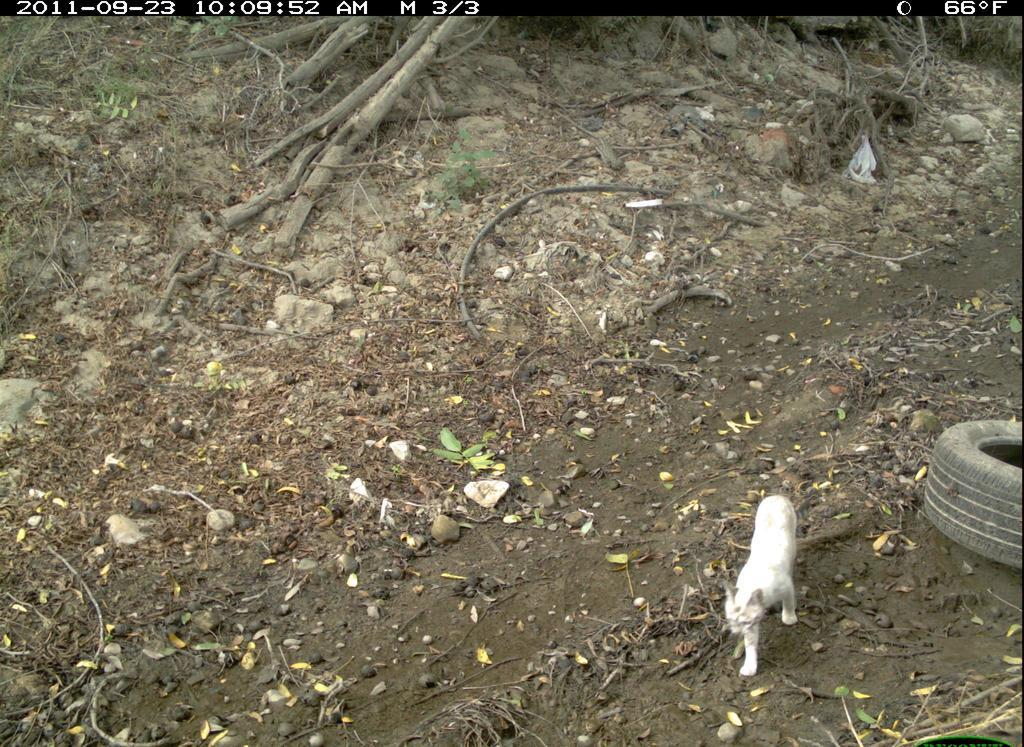cat: (720, 488, 822, 681)
